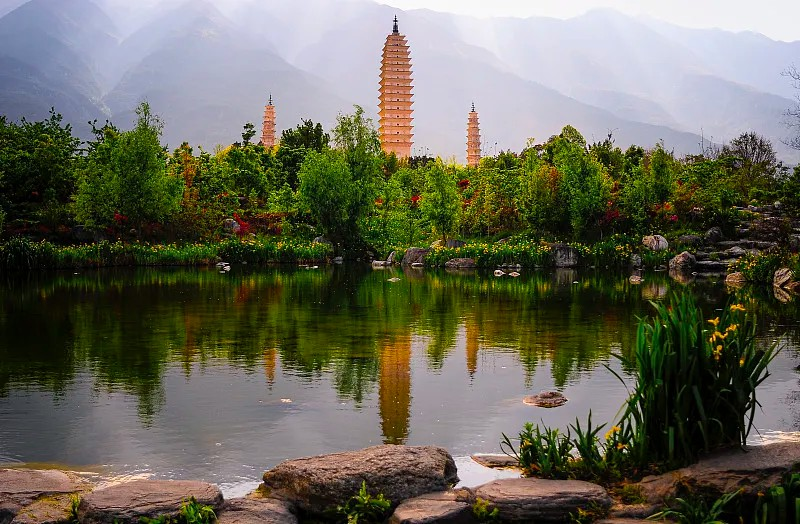ThreePagoda: (377, 14, 414, 158)
